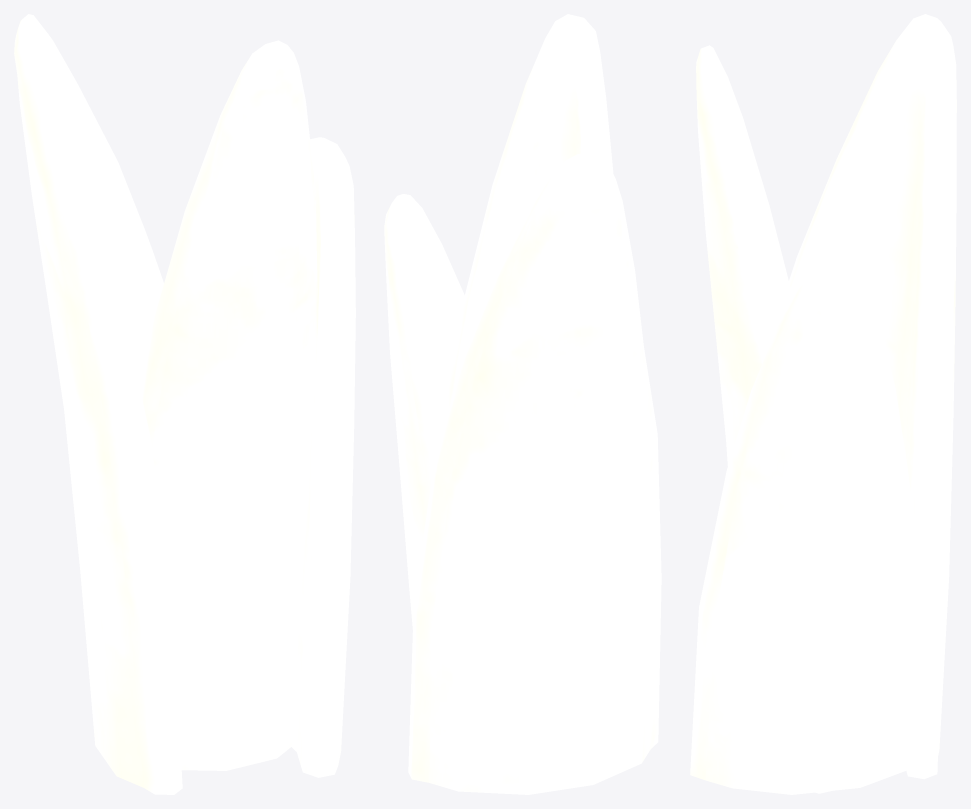
3 views of the same model, side by side, from view 1: azimuth 30°, elevation 25°; view 2: azimuth 150°, elevation 25°; view 3: azimuth 270°, elevation 25° (orthographic). The views are drawn at different scales.
Visible parts, largest first — view 1: SM_Desert_Weed_01v1_LOD0; view 2: SM_Desert_Weed_01v1_LOD0; view 3: SM_Desert_Weed_01v1_LOD0.
Boxes of the visible parts, x1,y1,x2,y2 form: SM_Desert_Weed_01v1_LOD0: [14, 14, 355, 794]; SM_Desert_Weed_01v1_LOD0: [384, 14, 661, 794]; SM_Desert_Weed_01v1_LOD0: [690, 14, 956, 794].
Size of the model in its own units: 0.0912 by 0.2288 by 0.0787.
1 material, 1 textured.
